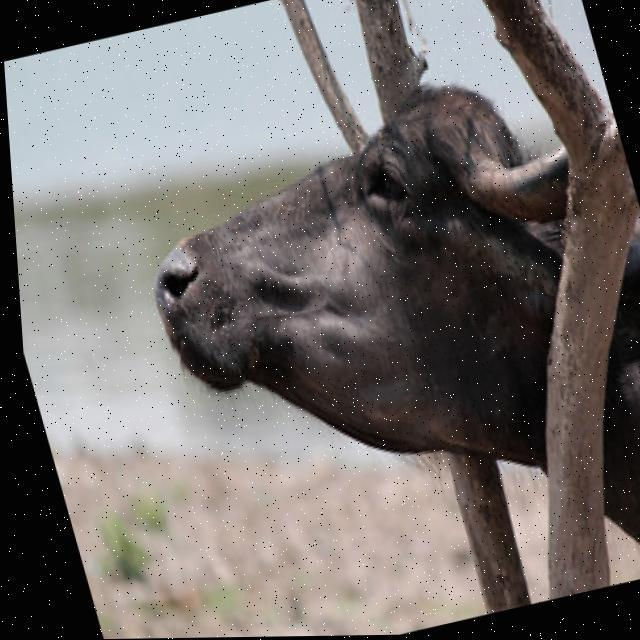Buffalo: (103, 36, 640, 639)
